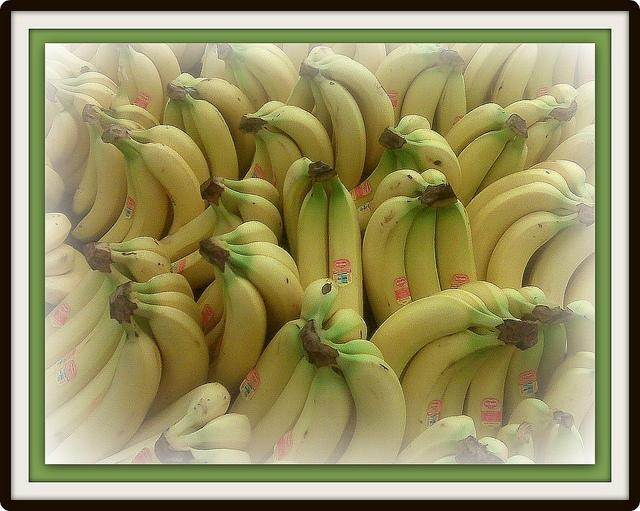banana: (45, 306, 161, 464), (158, 126, 273, 262), (400, 330, 506, 454), (113, 294, 210, 422), (304, 344, 406, 464), (370, 294, 506, 378), (470, 181, 584, 281), (45, 330, 127, 459), (363, 187, 438, 327), (310, 58, 395, 178), (265, 348, 352, 464), (113, 130, 206, 236), (486, 201, 594, 289), (44, 303, 124, 419), (229, 319, 309, 430), (171, 77, 257, 179), (299, 62, 366, 192), (223, 249, 304, 354), (206, 262, 267, 397), (118, 382, 231, 452), (98, 130, 168, 243), (244, 356, 316, 464), (374, 43, 465, 128), (46, 80, 102, 216), (72, 109, 128, 244), (464, 168, 594, 222), (320, 165, 364, 319), (522, 221, 596, 310), (44, 276, 111, 370), (356, 148, 422, 230), (248, 106, 334, 168), (180, 92, 240, 180), (456, 126, 520, 208), (126, 125, 210, 183), (45, 268, 108, 342), (502, 322, 545, 428), (463, 42, 523, 113), (392, 414, 477, 464), (542, 352, 596, 430), (131, 42, 181, 124), (398, 138, 463, 198), (215, 180, 282, 238), (435, 199, 477, 291), (444, 102, 513, 158), (231, 45, 297, 103), (472, 130, 528, 198), (296, 182, 330, 292), (400, 58, 452, 128), (403, 207, 441, 301), (254, 128, 303, 200), (370, 168, 436, 218), (283, 157, 313, 264), (488, 44, 538, 108), (226, 242, 300, 284), (132, 292, 204, 334), (350, 146, 398, 208), (526, 160, 595, 203), (230, 43, 300, 83), (57, 96, 90, 180), (508, 398, 552, 461), (178, 413, 252, 450), (224, 53, 270, 112), (100, 248, 175, 283), (44, 248, 90, 305), (456, 280, 518, 320), (501, 288, 570, 323), (522, 43, 562, 100), (199, 221, 279, 249), (544, 412, 586, 464), (45, 108, 79, 172), (300, 277, 340, 331), (524, 119, 566, 170), (503, 99, 568, 129), (545, 132, 595, 170), (44, 43, 96, 78), (318, 308, 368, 344), (200, 264, 224, 336), (110, 236, 170, 264), (130, 274, 194, 300), (56, 82, 118, 108), (102, 104, 160, 130), (200, 44, 235, 86), (61, 72, 119, 94), (182, 446, 252, 464), (447, 42, 484, 76), (552, 43, 580, 87), (574, 80, 596, 133), (45, 212, 72, 254), (572, 44, 595, 90), (44, 243, 76, 276), (518, 286, 560, 311), (96, 43, 120, 86), (401, 128, 451, 148), (45, 164, 65, 214), (64, 153, 89, 192), (109, 66, 131, 110), (357, 43, 386, 75), (282, 43, 310, 75), (163, 98, 186, 134), (179, 43, 206, 72), (537, 95, 578, 113), (478, 436, 508, 460), (547, 84, 578, 104), (46, 60, 78, 79), (307, 54, 353, 66), (72, 43, 101, 62), (421, 168, 446, 186), (331, 42, 356, 58), (185, 58, 202, 78), (506, 455, 536, 464), (172, 73, 195, 84)
